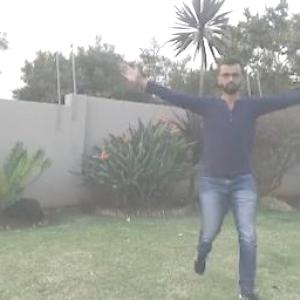takeoff: (118, 67, 299, 289)
